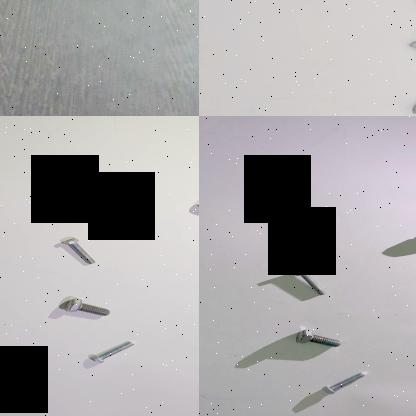Bolts: (84, 336, 138, 364), (316, 370, 370, 396), (56, 234, 98, 266), (295, 326, 345, 350), (291, 267, 331, 297), (61, 296, 113, 318), (404, 38, 416, 67)
